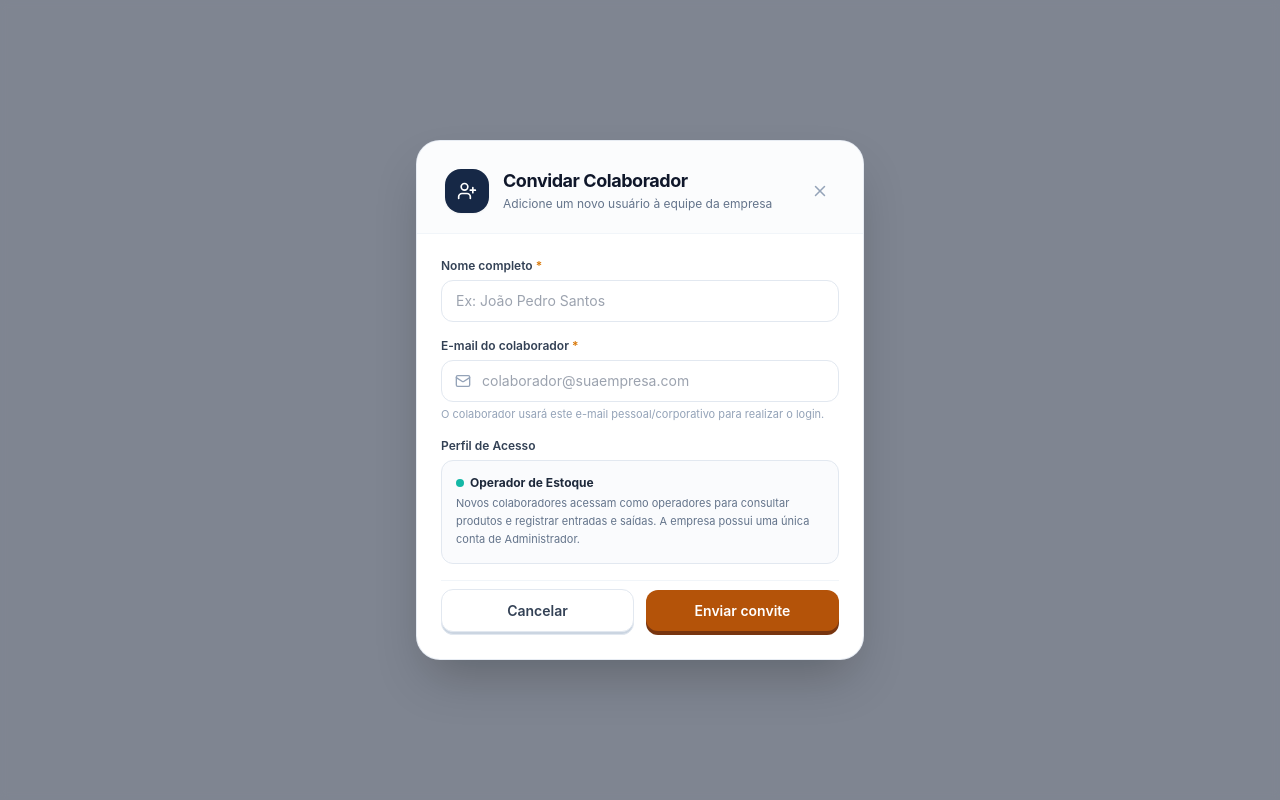
Test: InviteMemberModal › valida campos obrigatórios ao enviar formulário vazio
Click the button "Enviar convite" at (742,610), box [646,590,839,631]
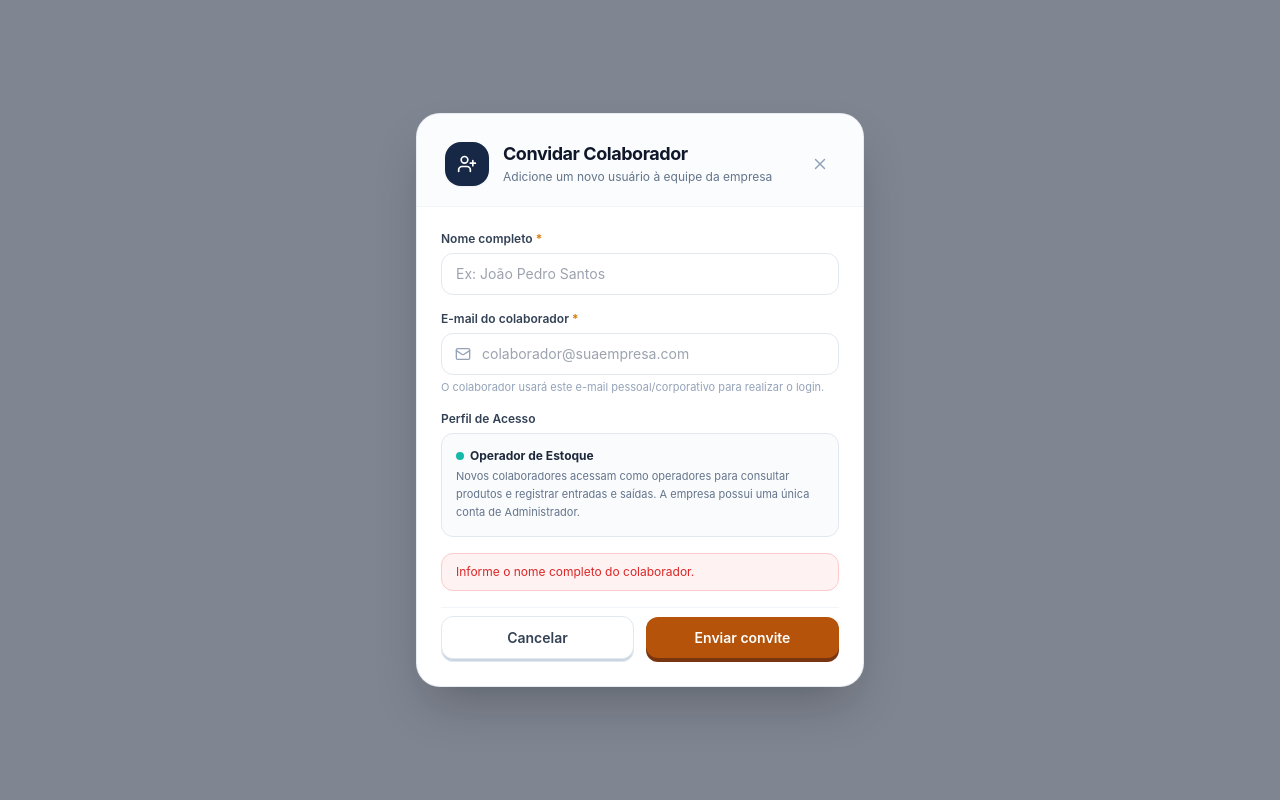
Expected: the text "Informe o nome completo do colaborador." is shown, [441,553,839,591]
